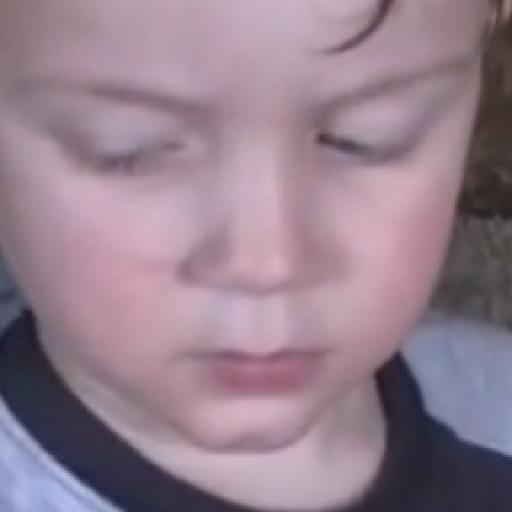Autism: (40, 0, 508, 453)
